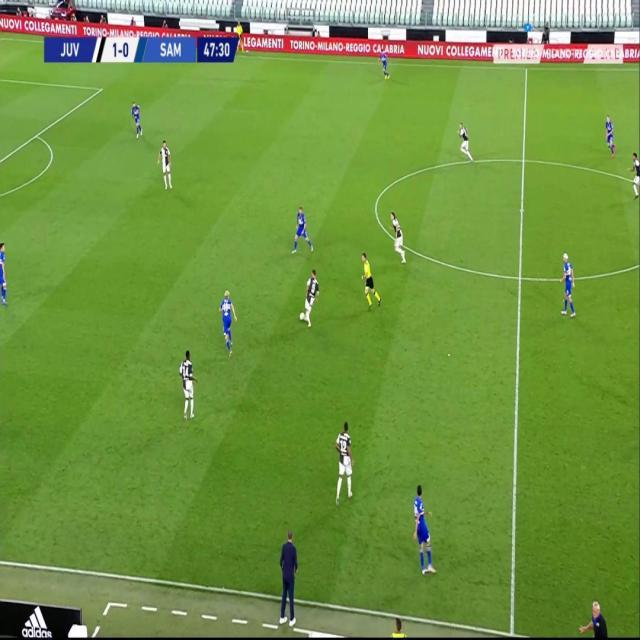ball: (299, 312, 307, 325)
player: (412, 481, 437, 577), (333, 417, 355, 507), (178, 349, 199, 420), (219, 288, 239, 358), (559, 249, 578, 320), (300, 269, 321, 329), (292, 204, 314, 256), (390, 210, 409, 267), (157, 138, 173, 191), (456, 120, 475, 163), (627, 149, 640, 201), (0, 236, 9, 309), (604, 113, 617, 157), (131, 100, 144, 140), (379, 47, 391, 82)
referee: (360, 249, 382, 310), (235, 20, 245, 56)
